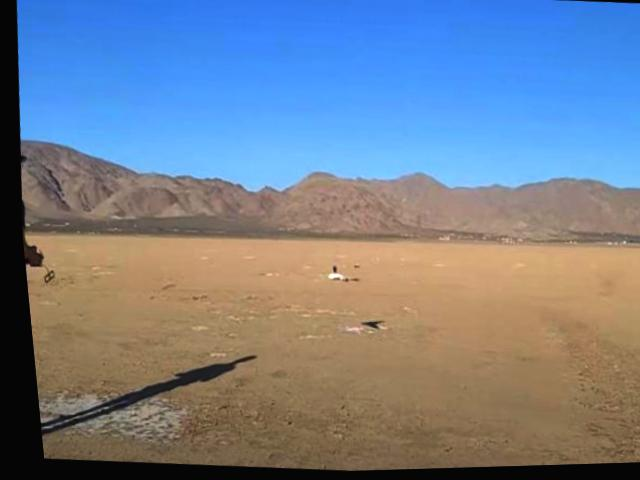iha: (319, 264, 355, 289)
